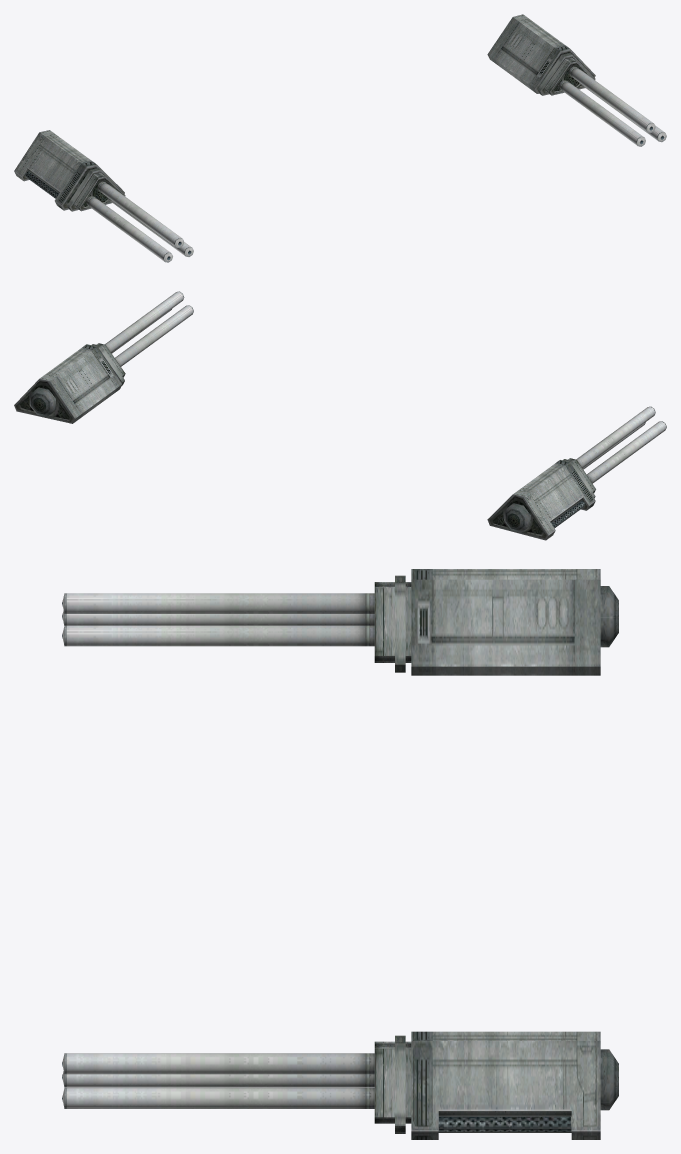
File: black_sun_fighter_medium_weapon2_s04_l0.fbx
3 renders of one model, top to bottom at view 1: azimuth 30°, elevation 25°; view 2: azimuth 150°, elevation 25°; view 3: azimuth 270°, elevation 25°, orthographic. The views are drawn at different scales.
Parts seen in each view (by area): view 1: mesh_node; view 2: mesh_node; view 3: mesh_node.
Boxes of the visible parts, x1,y1,x2,y2 form: mesh_node: (14, 14, 666, 262); mesh_node: (14, 291, 666, 540); mesh_node: (62, 569, 618, 1139).
Size of the model in its own units: 7.82 by 0.5352 by 3.53.
